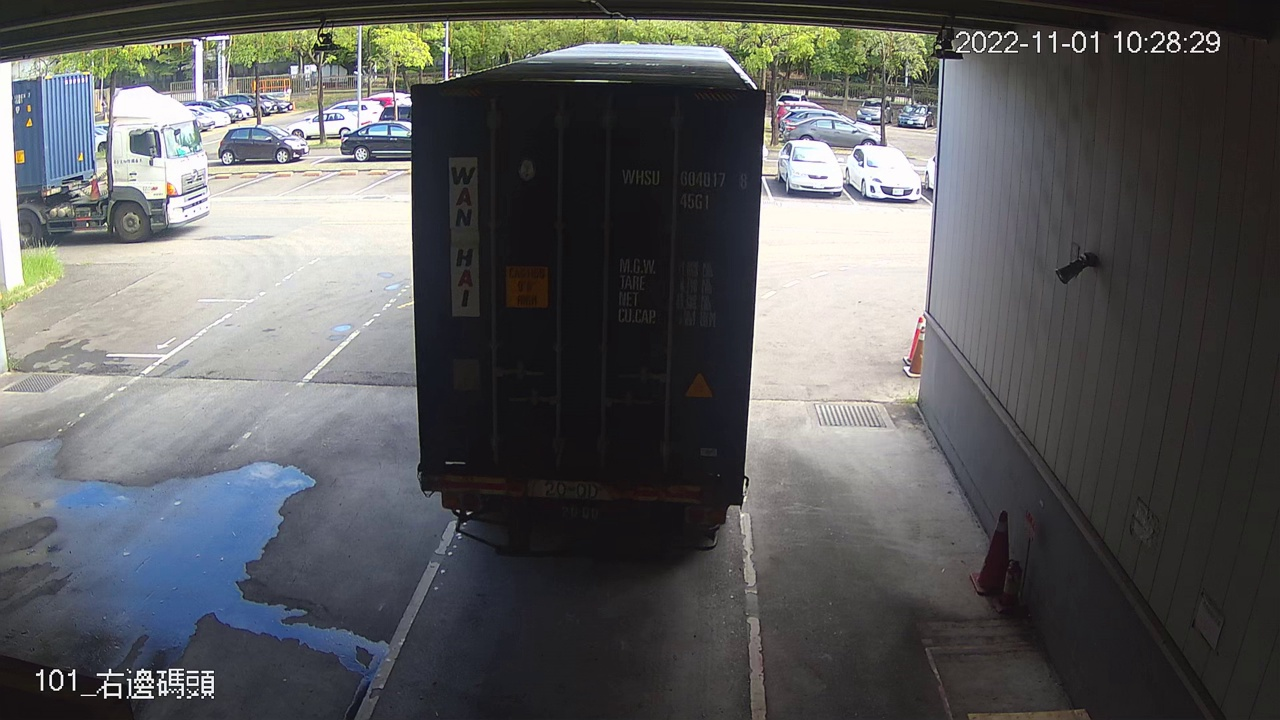container: (616, 163, 754, 216)
